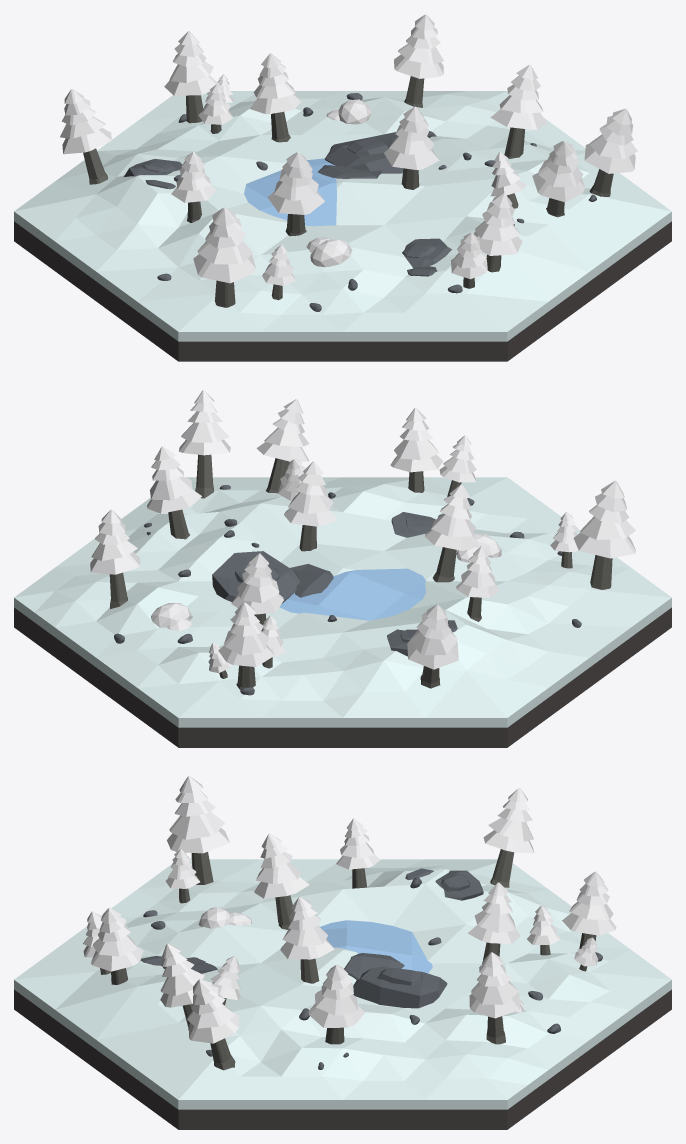
File: tundra.glb
The picture shows the model from 3 angles, top to bottom: view 1: azimuth 30°, elevation 25°; view 2: azimuth 150°, elevation 25°; view 3: azimuth 270°, elevation 25°; orthographic projection.
Visible parts, largest first — view 1: land, tree, rocksbig, ice, bush, rock; view 2: land, tree, ice, rocksbig, bush, rock; view 3: land, tree, rocksbig, ice, rock, bush.
Boxes of the visible parts, x1=… form: land: x1=14, y1=91, x2=671, y2=361; tree: x1=60, y1=14, x2=637, y2=307; rocksbig: x1=124, y1=132, x2=451, y2=276; ice: x1=244, y1=158, x2=336, y2=226; bush: x1=306, y1=99, x2=371, y2=267; rock: x1=157, y1=93, x2=596, y2=311; land: x1=14, y1=477, x2=671, y2=747; tree: x1=90, y1=390, x2=636, y2=689; ice: x1=279, y1=568, x2=426, y2=620; rocksbig: x1=212, y1=512, x2=457, y2=656; bush: x1=151, y1=533, x2=501, y2=630; rock: x1=114, y1=485, x2=581, y2=695; land: x1=14, y1=859, x2=671, y2=1129; tree: x1=83, y1=776, x2=616, y2=1070; rocksbig: x1=141, y1=868, x2=483, y2=1008; ice: x1=320, y1=920, x2=432, y2=973; rock: x1=143, y1=877, x2=602, y2=1069; bush: x1=198, y1=907, x2=524, y2=1012.
Bounding box in the file's own units: 1.73 × 0.4628 × 2.
